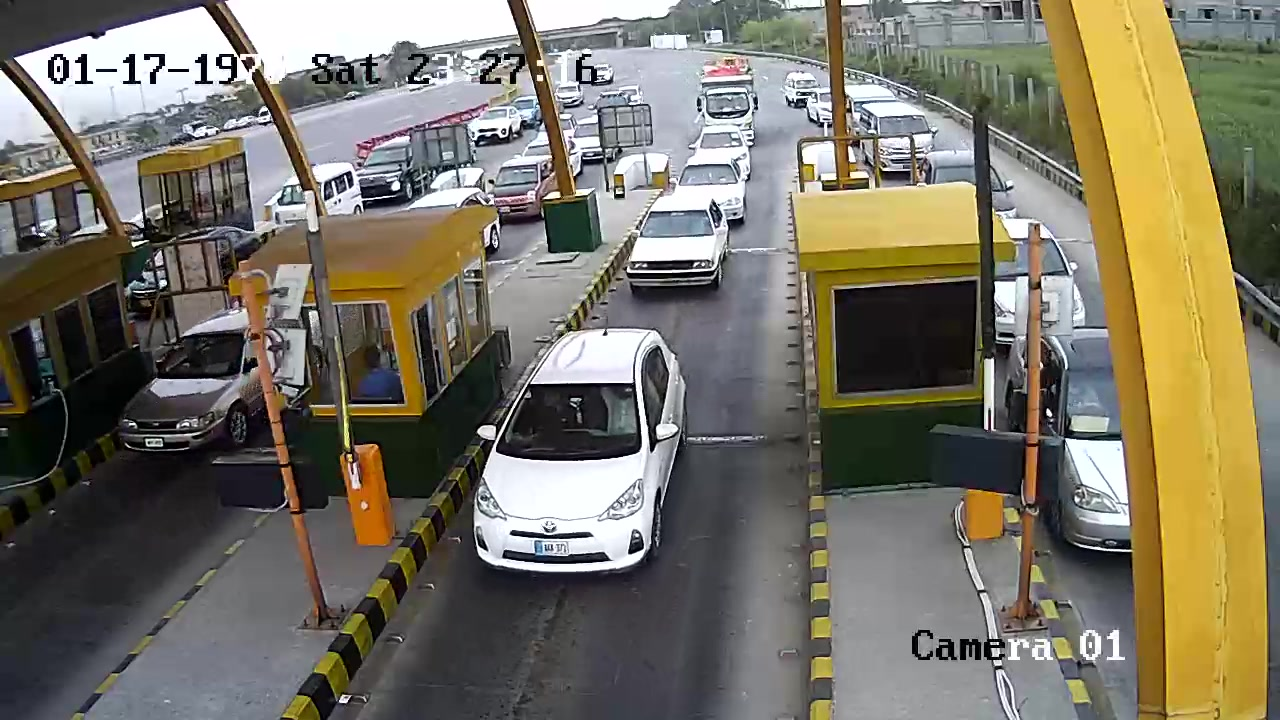F1: (461, 321, 695, 576)
